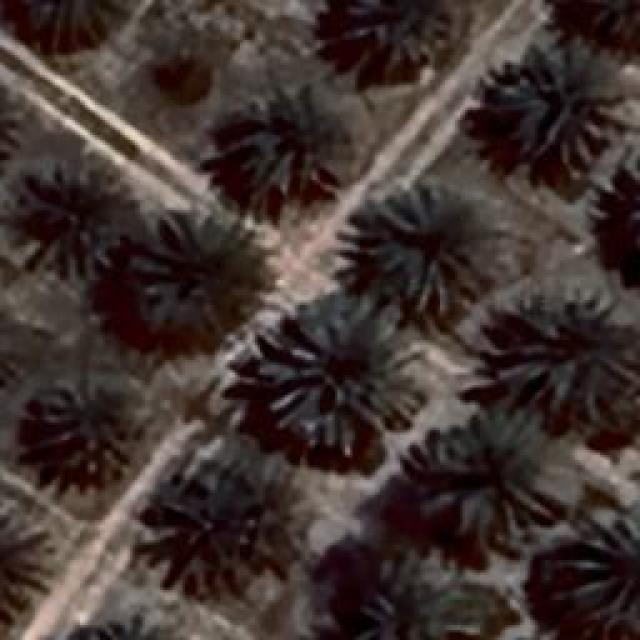PalmTree: (260, 295, 428, 455), (368, 188, 510, 322), (424, 402, 558, 540), (498, 38, 630, 168), (490, 290, 638, 405), (220, 78, 352, 200), (88, 20, 609, 50), (12, 168, 120, 280), (168, 471, 272, 584), (142, 230, 250, 338), (30, 375, 135, 480), (348, 560, 482, 640), (568, 520, 638, 615), (342, 0, 447, 62), (0, 517, 40, 625), (617, 138, 640, 276), (65, 614, 186, 640), (64, 622, 186, 640), (0, 77, 22, 175), (624, 137, 640, 270), (0, 76, 15, 172)
